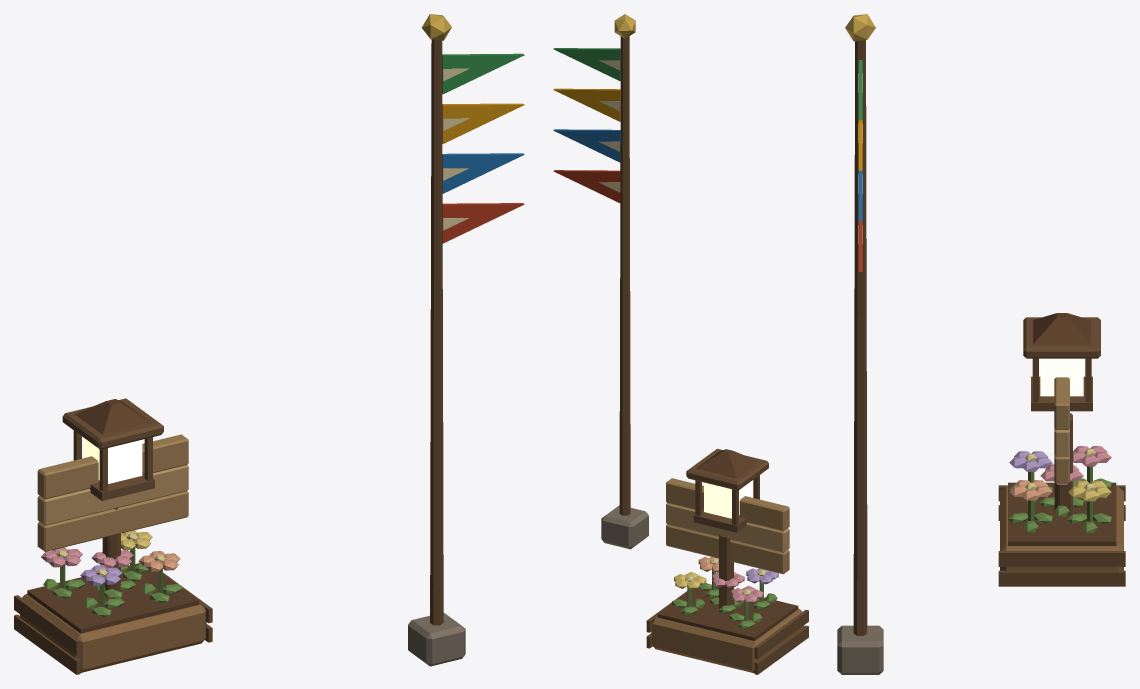
Rendered from decor.glb.
3 renders of one model, left to right at view 1: azimuth 30°, elevation 25°; view 2: azimuth 150°, elevation 25°; view 3: azimuth 270°, elevation 25°, orthographic. The views are drawn at different scales.
Parts seen in each view (by area): view 1: decor_flowers, tier_2, decor_sign, decor_lamp, tier_4, tier_3, tier_5; view 2: decor_flowers, tier_2, decor_sign, decor_lamp, tier_4, tier_5, tier_3; view 3: decor_flowers, tier_2, decor_lamp, decor_sign.
Part boxes in pixels (x1,y1,x2,y2): decor_flowers: (14, 530, 212, 674); tier_2: (408, 14, 524, 666); decor_sign: (37, 434, 188, 597); decor_lamp: (62, 398, 163, 598); tier_4: (442, 153, 524, 193); tier_3: (442, 103, 524, 143); tier_5: (442, 203, 524, 243); decor_flowers: (646, 556, 808, 674); tier_2: (553, 14, 648, 549); decor_sign: (666, 478, 789, 613); decor_lamp: (686, 448, 768, 532); tier_4: (553, 129, 620, 162); tier_5: (553, 170, 620, 202); tier_3: (553, 88, 620, 121); decor_flowers: (998, 446, 1125, 586); tier_2: (837, 14, 883, 674); decor_lamp: (1023, 313, 1100, 512); decor_sign: (1054, 377, 1072, 515).
Bounding box in the file's own units: 2.91 × 4.64 × 1.86.
